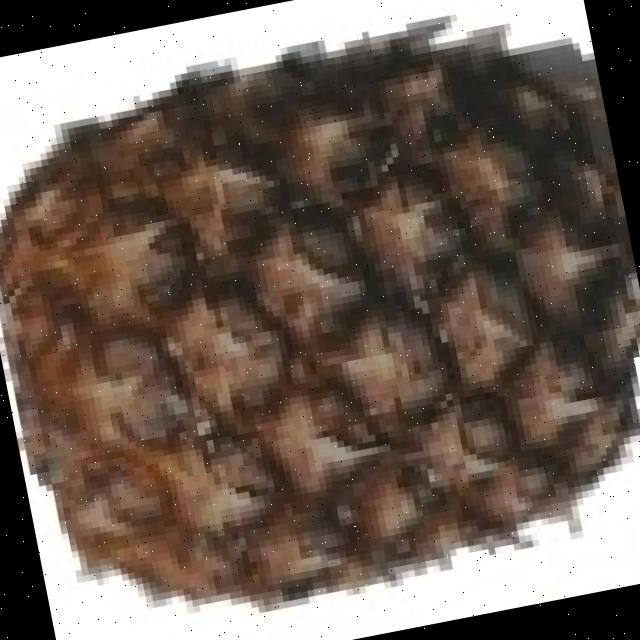pineapple: (0, 27, 640, 605)
